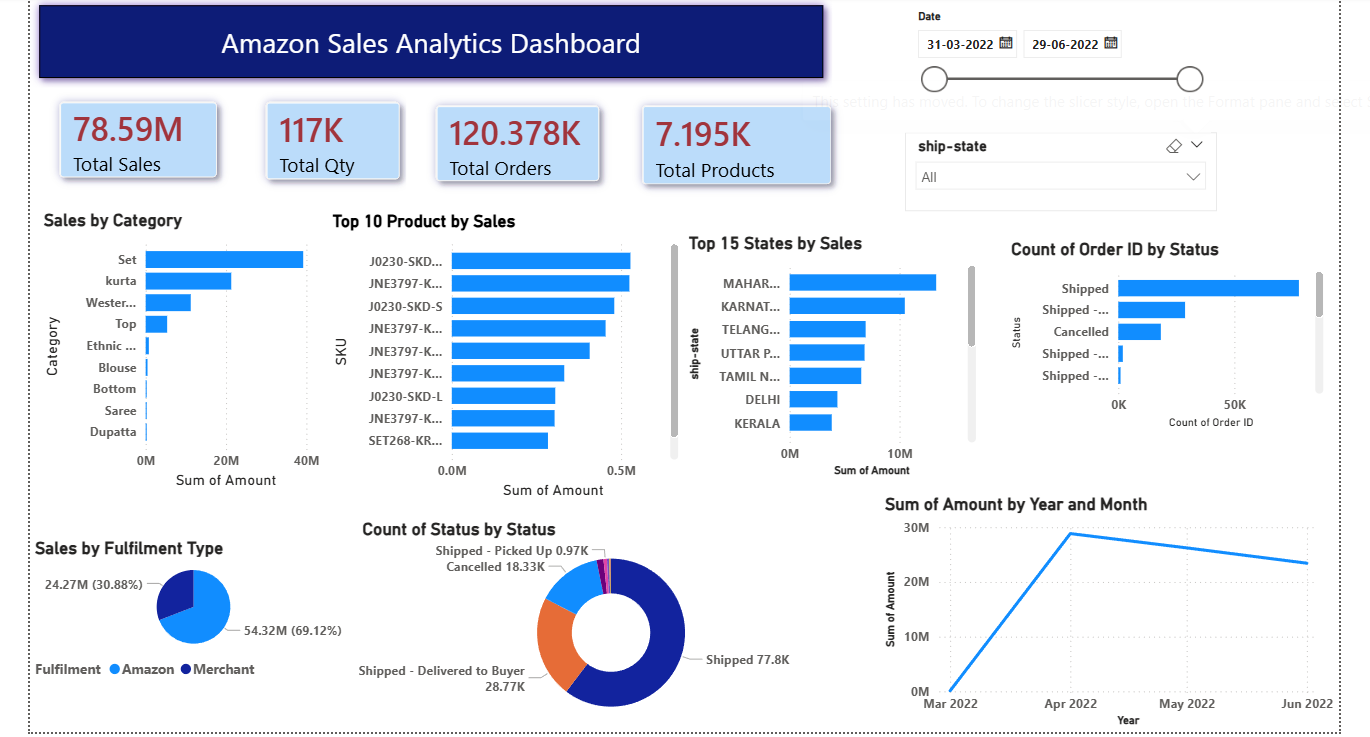

This screenshot's page, from the dashboard's own definition file:
{"tool":"powerbi","page":{"name":"Page 1","canvas":[1280,720],"ordinal":0},"visuals":[{"type":"cardVisual","fields":{"Data":["Sum(Amazon Sale Report.Amount)"]},"box":[0,74.6,212.8,132.1],"z":0},{"type":"cardVisual","fields":{"Data":["Sum(Amazon Sale Report.Qty)"]},"box":[201.8,74.6,189.5,134.5],"z":1000},{"type":"clusteredBarChart","title":"Sales by Category","fields":{"Category":["Amazon Sale Report.Category"],"Y":["Sum(Amazon Sale Report.Amount)"]},"box":[8.6,209.1,280,277.6],"z":2000},{"type":"clusteredBarChart","title":"Top 10 Product by Sales","fields":{"Category":["Amazon Sale Report.SKU"],"Y":["Sum(Amazon Sale Report.Amount)"]},"box":[291,210.3,348.5,286.1],"z":3000},{"type":"barChart","title":"Top 15 States by Sales","fields":{"Category":["Amazon Sale Report.ship-state"],"Y":["Sum(Amazon Sale Report.Amount)"]},"box":[639.5,231.1,291,244.6],"z":4000},{"type":"pieChart","title":"Sales by Fulfilment Type","fields":{"Category":["Amazon Sale Report.Fulfilment"],"Y":["Sum(Amazon Sale Report.Amount)"]},"box":[0,529.5,320.4,148],"z":6000},{"type":"cardVisual","fields":{"Data":["Count(Amazon Sale Report.Order ID)"]},"box":[368.1,78.3,218.9,132.1],"z":8000},{"type":"cardVisual","fields":{"Data":["Count(Amazon Sale Report.SKU)"]},"box":[569.8,78.3,243.3,135.7],"z":9000},{"type":"shape","box":[0,0,785.1,89.3],"z":11000},{"type":"donutChart","fields":{"Category":["Amazon Sale Report.Status"],"Y":["CountNonNull(Amazon Sale Report.Status)"]},"box":[320.4,511.1,496.5,209.1],"z":11001},{"type":"barChart","fields":{"Category":["Amazon Sale Report.Status"],"Y":["CountNonNull(Amazon Sale Report.Order ID)"]},"box":[955,237.2,315.5,190.8],"z":11002},{"type":"lineChart","fields":{"Y":["Sum(Amazon Sale Report.Amount)"],"Category":["Amazon Sale Report.Date.Variation.Date Hierarchy.Year","Amazon Sale Report.Date.Variation.Date Hierarchy.Month"]},"box":[831.5,486.7,448.8,233.6],"z":11003},{"type":"slicer","fields":{"Values":["Amazon Sale Report.ship-state"]},"box":[856,133.3,304.5,77],"z":11005},{"type":"slicer","fields":{"Values":["Amazon Sale Report.Date"]},"box":[856,8.6,299.6,124.7],"z":11006}]}

Visuals, with their boxes on the page's 1280x720 design canvas (x1, y1, x2, y2). These are canvas units, not pixel positions in the 1370x737 screenshot, which may show the page scaled, cropped or inside an application window:
cardVisual - Sum(Amazon Sale Report.Amount): [0,75,213,207]
cardVisual - Sum(Amazon Sale Report.Qty): [202,75,391,209]
"Sales by Category" clusteredBarChart: [9,209,289,487]
"Top 10 Product by Sales" clusteredBarChart: [291,210,640,496]
"Top 15 States by Sales" barChart: [640,231,930,476]
"Sales by Fulfilment Type" pieChart: [0,530,320,678]
cardVisual - Count(Amazon Sale Report.Order ID): [368,78,587,210]
cardVisual - Count(Amazon Sale Report.SKU): [570,78,813,214]
shape: [0,0,785,89]
donutChart - Amazon Sale Report.Status x CountNonNull(Amazon Sale Report.Status): [320,511,817,720]
barChart - Amazon Sale Report.Status x CountNonNull(Amazon Sale Report.Order ID): [955,237,1270,428]
lineChart - Sum(Amazon Sale Report.Amount) x Amazon Sale Report.Date.Variation.Date Hierarchy.Year: [832,487,1280,720]
slicer - Amazon Sale Report.ship-state: [856,133,1160,210]
slicer - Amazon Sale Report.Date: [856,9,1156,133]
